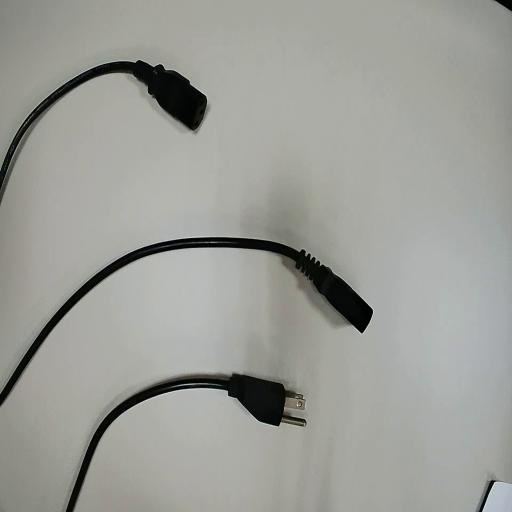wire: (0, 238, 371, 403), (66, 374, 303, 511), (0, 61, 205, 188)
